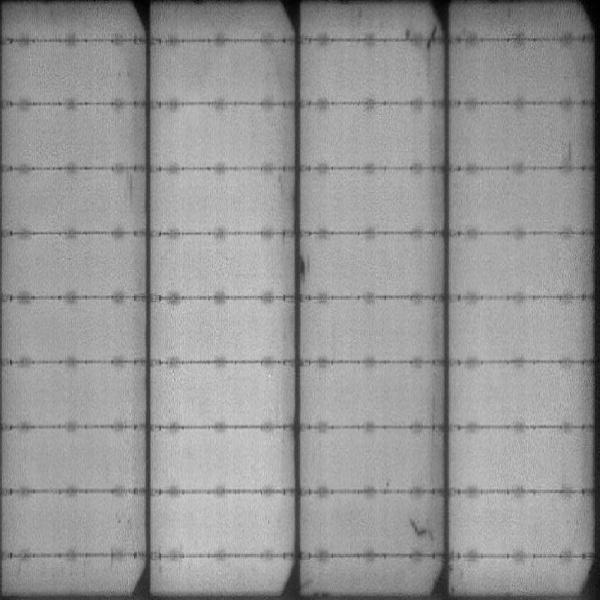scratch: (410, 516, 440, 547), (300, 251, 312, 282), (427, 25, 438, 48)
